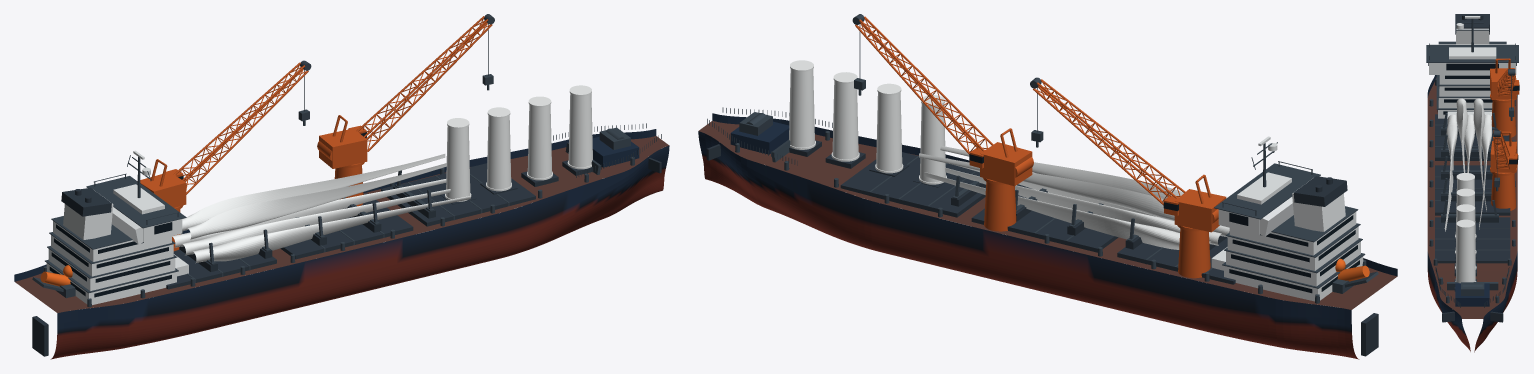
Rendered from gss-project-carrier-draco.glb.
The picture shows the model from 3 angles, left to right: view 1: azimuth 30°, elevation 25°; view 2: azimuth 150°, elevation 25°; view 3: azimuth 270°, elevation 25°; orthographic projection. The views are drawn at different scales.
Visible parts, largest first — view 1: Hull, DeckStructures, Superstructure, Fittings, MainDeck, Blade_5, Blade_3, Blade_4, Crane_Fwd_BoomLattice, Crane_Aft_BoomLattice, Blade_2, Windows (+9 smaller); view 2: Hull, DeckStructures, Superstructure, Fittings, MainDeck, Blade_1, Crane_Aft_BoomLattice, Crane_Fwd_BoomLattice, Blade_4, TowerSection_2, Windows, TowerSection_4 (+11 smaller); view 3: DeckStructures, Fittings, MainDeck, Superstructure, Hull, TowerSection_4, Windows, Crane_Fwd_Pedestal, Crane_Aft_Pedestal, Crane_Fwd_HouseShell, Crane_Aft_HouseShell, Blade_3 (+12 smaller).
Part boxes in pixels (box(x1,y1,x2,y2)): Hull: box(50, 145, 669, 359); DeckStructures: box(32, 158, 661, 356); Superstructure: box(46, 150, 188, 304); Fittings: box(32, 123, 661, 307); MainDeck: box(15, 136, 669, 312); Blade_5: box(187, 163, 446, 239); Blade_3: box(193, 196, 470, 263); Blade_4: box(182, 154, 445, 231); Crane_Fwd_BoomLattice: box(356, 16, 492, 151); Crane_Aft_BoomLattice: box(173, 62, 308, 194); Blade_2: box(182, 189, 450, 255); Windows: box(49, 222, 172, 297); Hull: box(698, 131, 1359, 359); DeckStructures: box(706, 140, 1378, 356); Superstructure: box(1211, 136, 1363, 301); Fittings: box(707, 107, 1378, 303); MainDeck: box(699, 121, 1397, 309); Blade_1: box(924, 172, 1210, 249); Crane_Aft_BoomLattice: box(1033, 79, 1185, 205); Crane_Fwd_BoomLattice: box(855, 16, 993, 154); Blade_4: box(919, 153, 1174, 220); TowerSection_2: box(875, 83, 903, 173); Windows: box(1229, 212, 1359, 293); TowerSection_4: box(789, 60, 815, 149); DeckStructures: box(1435, 14, 1510, 322); Fittings: box(1426, 18, 1518, 307); MainDeck: box(1427, 77, 1517, 318); Superstructure: box(1429, 16, 1516, 123); Hull: box(1427, 251, 1517, 352); TowerSection_4: box(1455, 219, 1476, 283); Windows: box(1428, 63, 1516, 114); Crane_Fwd_Pedestal: box(1490, 167, 1516, 210); Crane_Aft_Pedestal: box(1490, 93, 1516, 137); Crane_Fwd_HouseShell: box(1490, 131, 1517, 172); Crane_Aft_HouseShell: box(1490, 58, 1519, 99); Blade_3: box(1444, 114, 1457, 231).
Size of the model in its own units: 138 by 44.75 by 21.75.
